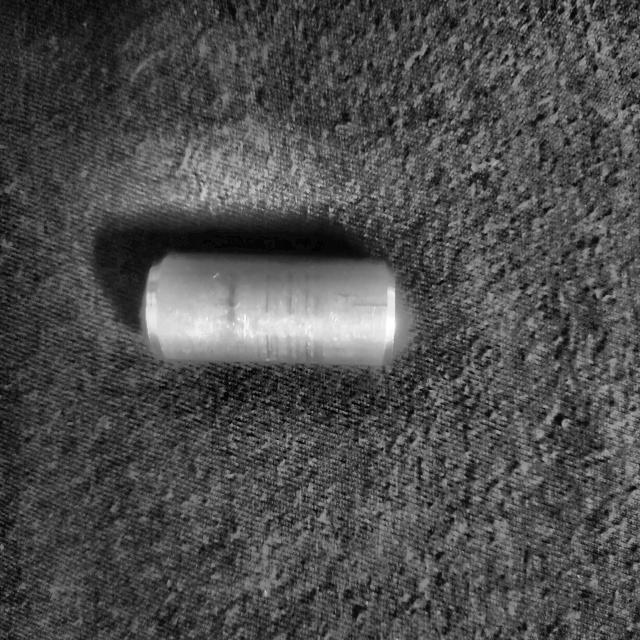Broken: (142, 244, 397, 379)
